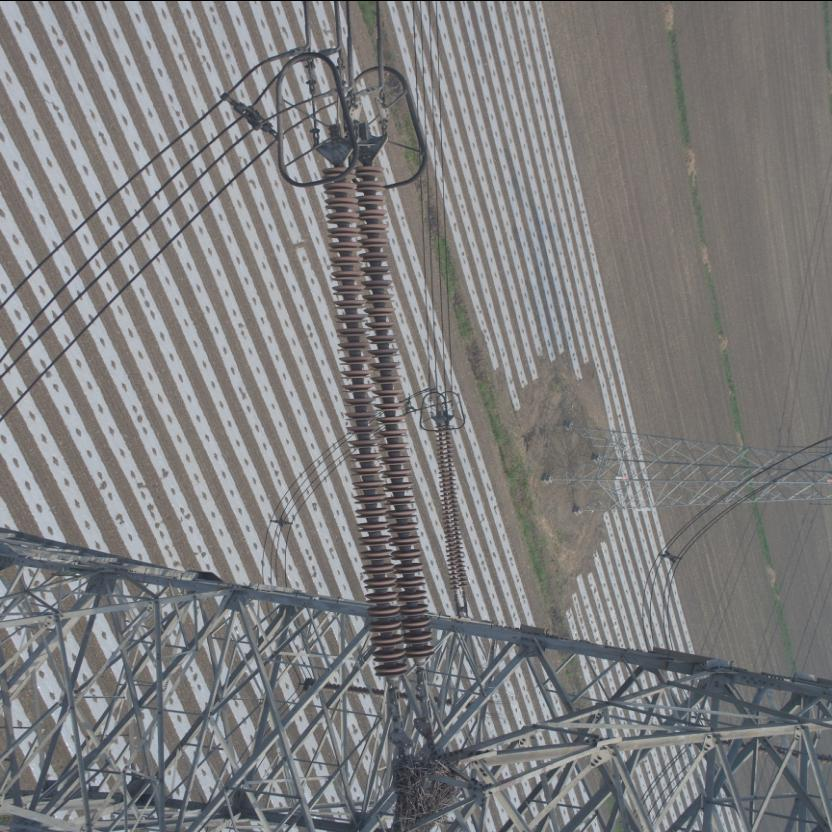insulator: (322, 155, 438, 717), (439, 419, 472, 597)
